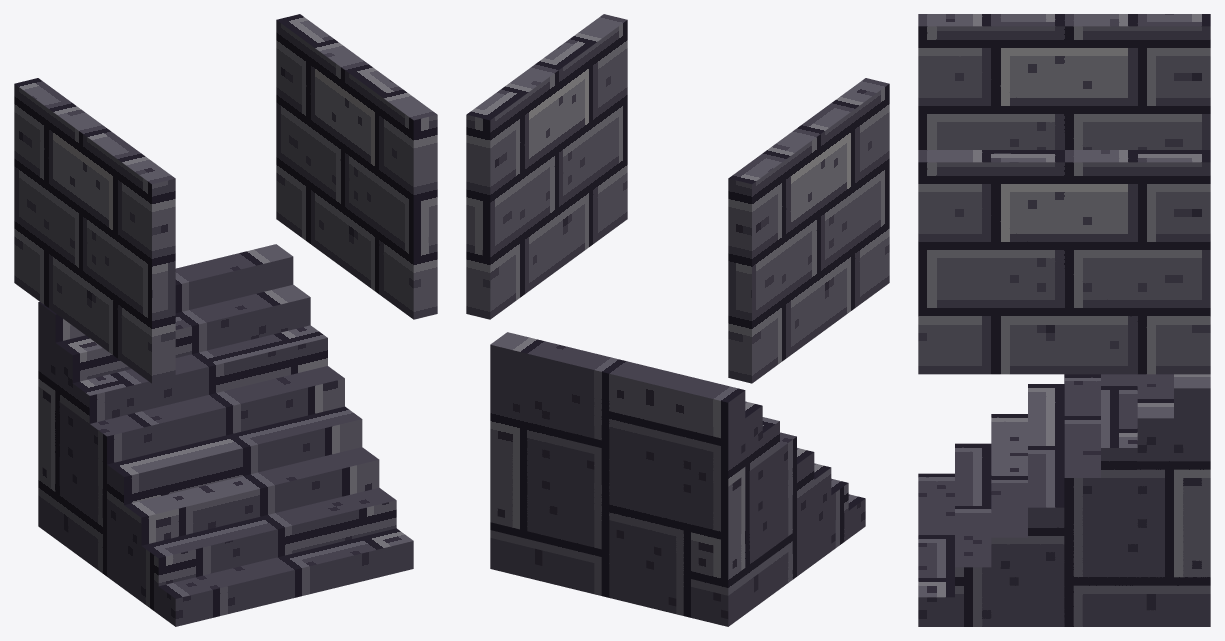
File: stairs_up.glb
3 renders of one model, left to right at view 1: azimuth 30°, elevation 25°; view 2: azimuth 150°, elevation 25°; view 3: azimuth 270°, elevation 25°, orthographic. The views are drawn at different scales.
Visible parts, largest first — view 1: shaft_l, shaft_r, step1.001, step4.001, step3.001, step2.001, step0.001, step5.001, step6.001, step7.001; view 2: shaft_l, shaft_r, step3.001, step2.001, step6.001, step7.001, step4.001, step5.001, step0.001, step1.001; view 3: shaft_r, shaft_l, step4.001, step3.001, step0.001, step1.001, step2.001, step5.001, step6.001, step7.001.
Boxes of the visible parts, box(x1,y1,x2,y2) form: shaft_l: box(14, 78, 175, 383); shaft_r: box(276, 14, 437, 319); step1.001: box(38, 470, 396, 614); step4.001: box(38, 366, 344, 542); step3.001: box(38, 406, 362, 546); step2.001: box(38, 442, 379, 545); step0.001: box(38, 498, 413, 626); step5.001: box(38, 325, 327, 527); step6.001: box(38, 284, 310, 404); step7.001: box(38, 244, 293, 538); shaft_l: box(728, 78, 889, 383); shaft_r: box(466, 14, 627, 319); step3.001: box(490, 448, 814, 626); step2.001: box(490, 463, 831, 625); step6.001: box(490, 373, 762, 624); step7.001: box(490, 332, 745, 624); step4.001: box(490, 432, 796, 625); step5.001: box(490, 412, 779, 625); step0.001: box(490, 494, 865, 626); step1.001: box(490, 478, 848, 625); shaft_r: box(918, 150, 1210, 374); shaft_l: box(918, 14, 1210, 149); step4.001: box(1064, 374, 1210, 626); step3.001: box(1028, 384, 1210, 626); step0.001: box(918, 473, 1210, 626); step1.001: box(955, 443, 1209, 626); step2.001: box(991, 414, 1208, 626); step5.001: box(1101, 374, 1210, 626); step6.001: box(1137, 374, 1210, 626); step7.001: box(1174, 374, 1210, 626).
Bounding box in the file's own units: 2.4 × 3.6 × 2.
Materials: 2 (2 with a texture image).
